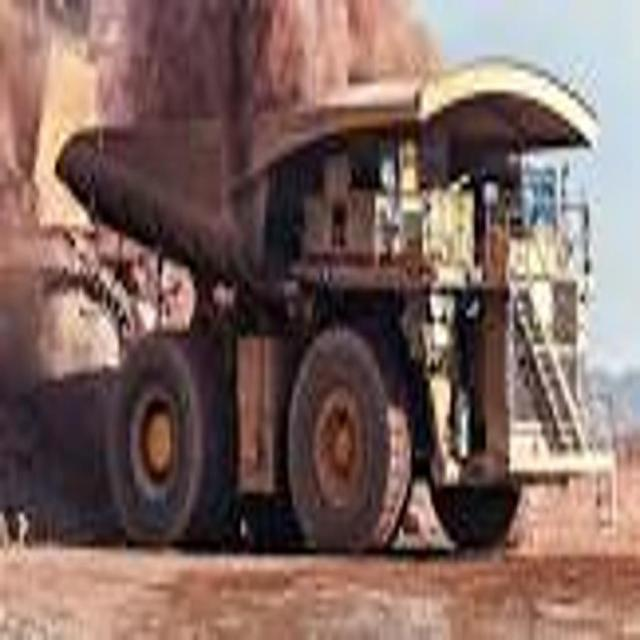dump_truck: (55, 73, 614, 560)
